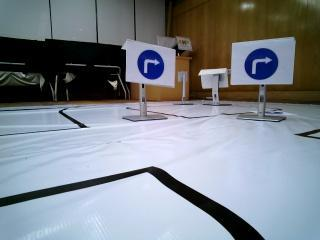right: (229, 36, 298, 85), (125, 41, 179, 90)
